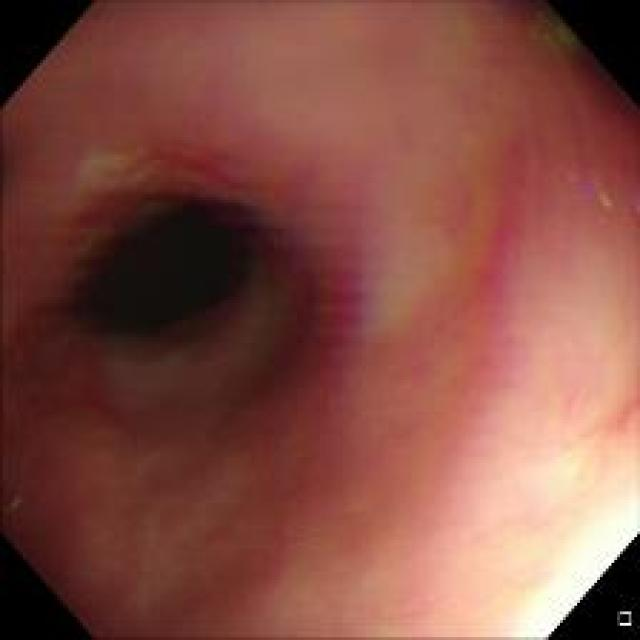blur: (25, 65, 561, 585)
color misalignment: (565, 171, 596, 202), (616, 178, 638, 216)
contrast: (52, 175, 246, 344)
saturation: (512, 510, 635, 631)
